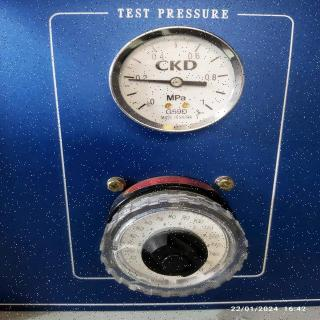gauge: (104, 12, 248, 136), (134, 96, 155, 112), (199, 98, 217, 114), (170, 76, 182, 88), (126, 77, 138, 83)
